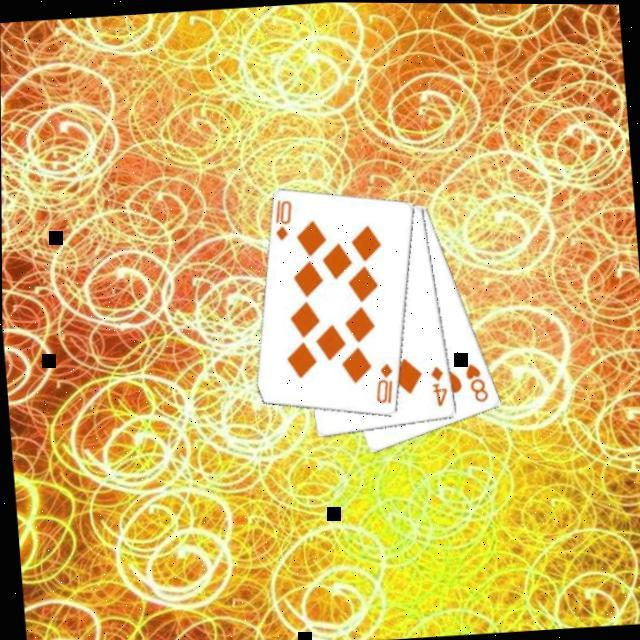10D: (371, 356, 398, 404), (271, 193, 298, 241)
4D: (428, 360, 452, 407)
8H: (463, 356, 492, 404)
